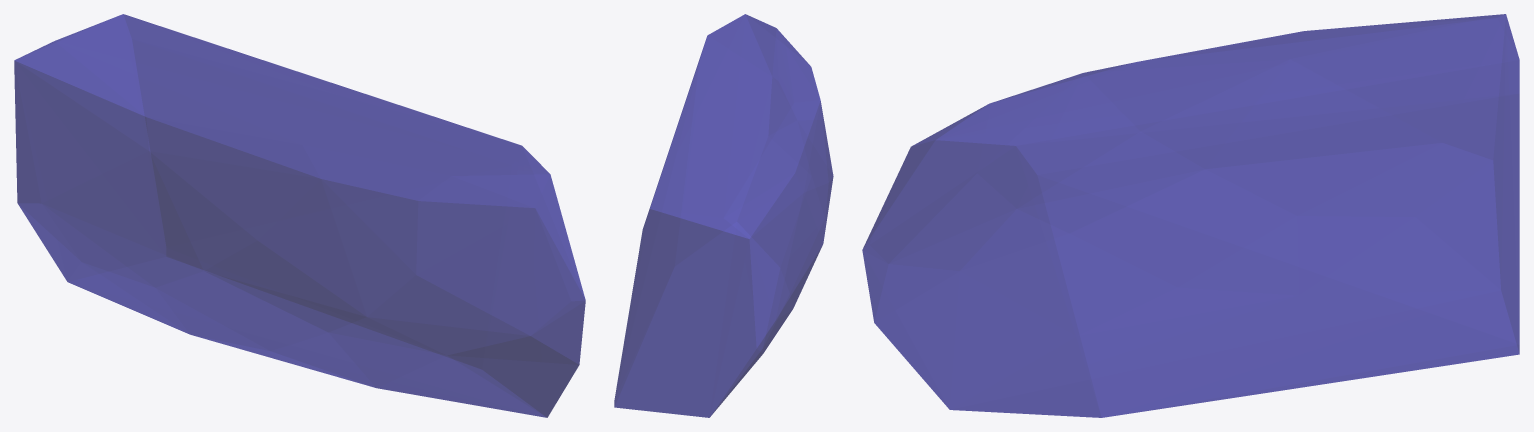
3 views of the same model, side by side, from view 1: azimuth 30°, elevation 25°; view 2: azimuth 150°, elevation 25°; view 3: azimuth 270°, elevation 25° (orthographic). The views are drawn at different scales.
Parts seen in each view (by area): view 1: Shape_IndexedFaceSet.013_Shape_IndexedFaceSet.20390; view 2: Shape_IndexedFaceSet.013_Shape_IndexedFaceSet.20390; view 3: Shape_IndexedFaceSet.013_Shape_IndexedFaceSet.20390.
Boxes of the visible parts, left/top/right/bottom form: Shape_IndexedFaceSet.013_Shape_IndexedFaceSet.20390: left=14, top=14, right=585, bottom=417; Shape_IndexedFaceSet.013_Shape_IndexedFaceSet.20390: left=614, top=14, right=833, bottom=417; Shape_IndexedFaceSet.013_Shape_IndexedFaceSet.20390: left=862, top=14, right=1519, bottom=417.
Bounding box in the file's own units: 0.2498 × 0.215 × 0.4689.
